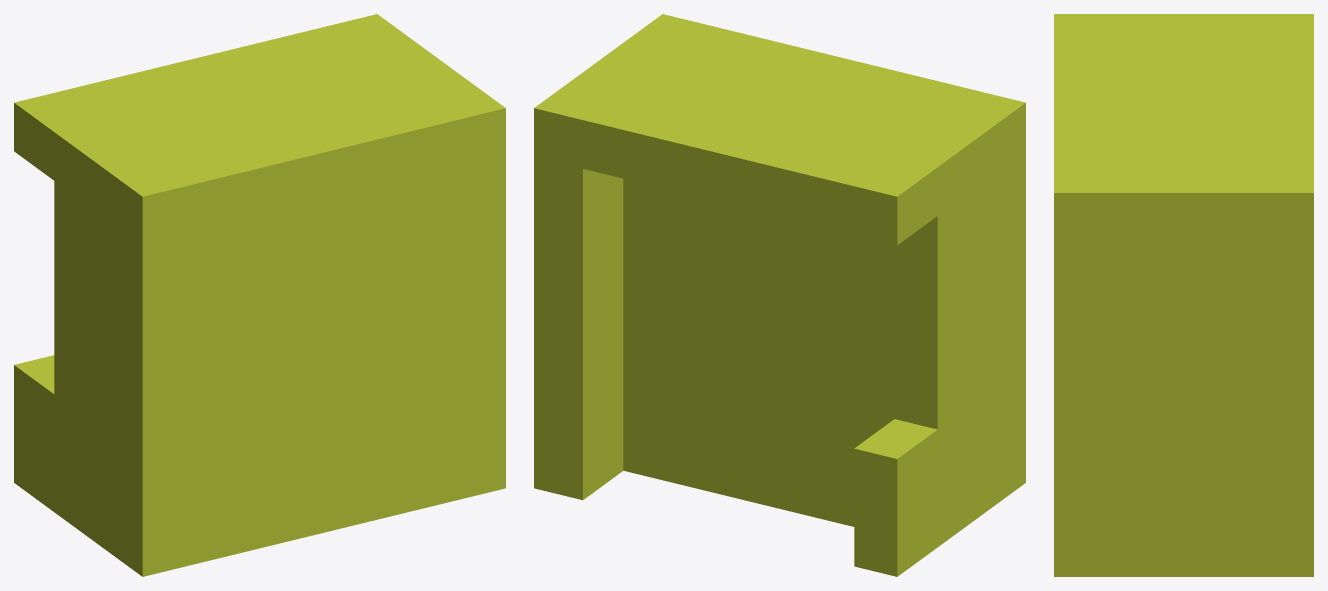
Rendered from StageCornner.fbx.
The picture shows the model from 3 angles, left to right: view 1: azimuth 30°, elevation 25°; view 2: azimuth 150°, elevation 25°; view 3: azimuth 270°, elevation 25°; orthographic projection.
Visible parts, largest first — view 1: StageCorner; view 2: StageCorner; view 3: StageCorner.
Part boxes in pixels (left/top/right/bottom): StageCorner: left=14, top=14, right=505, bottom=576; StageCorner: left=534, top=14, right=1025, bottom=576; StageCorner: left=1054, top=14, right=1313, bottom=576.
Bounding box in the file's own units: 200 × 200 × 123.
